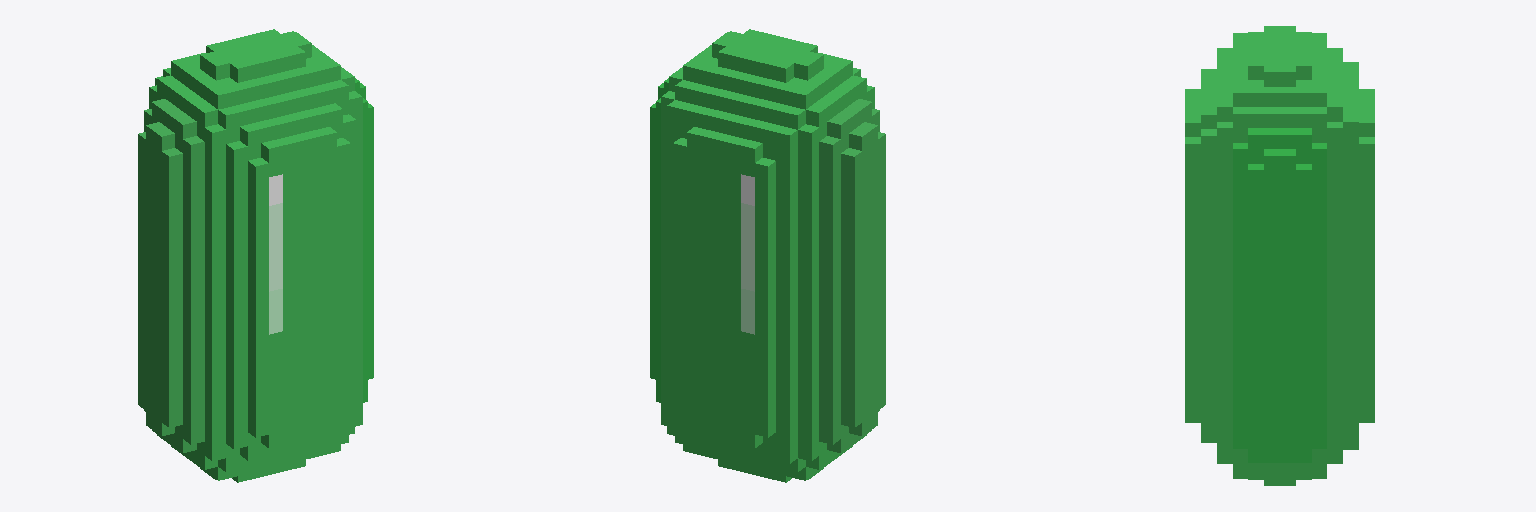
3 views of the same model, side by side, from view 1: azimuth 30°, elevation 25°; view 2: azimuth 150°, elevation 25°; view 3: azimuth 270°, elevation 25° (orthographic).
Visible parts, largest first — view 1: object 1; view 2: object 1; view 3: object 1.
Part boxes in pixels (left/top/right/bottom): object 1: left=138, top=29, right=373, bottom=482; object 1: left=650, top=29, right=885, bottom=482; object 1: left=1185, top=26, right=1374, bottom=485.
Size of the model in its own units: 1.5 by 2.9 by 1.2.
1 materials, 1 textured.